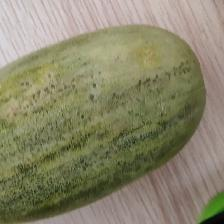gua: (44, 56, 177, 161)
